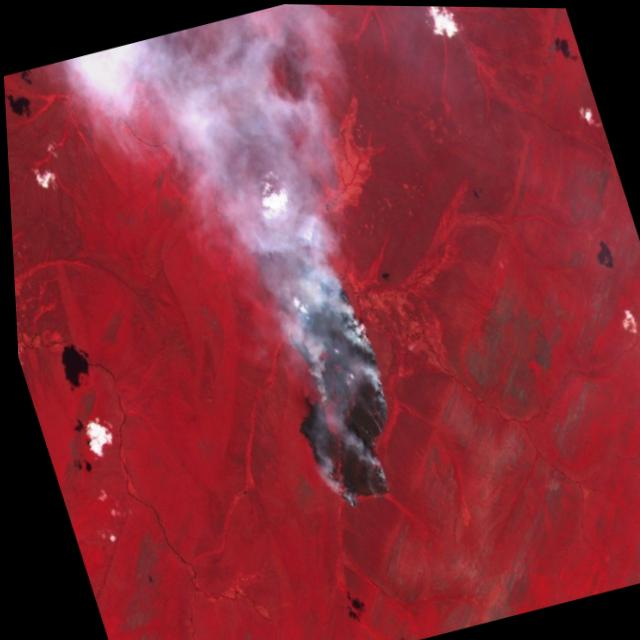fire: (250, 242, 416, 516)
